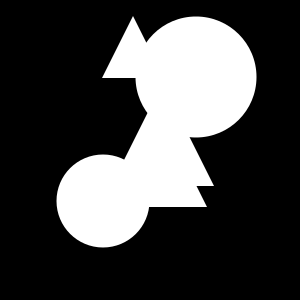rectangle: (136, 16, 256, 138), (56, 154, 150, 248)
triangle: (111, 83, 214, 186), (123, 123, 207, 207), (102, 16, 164, 78)
